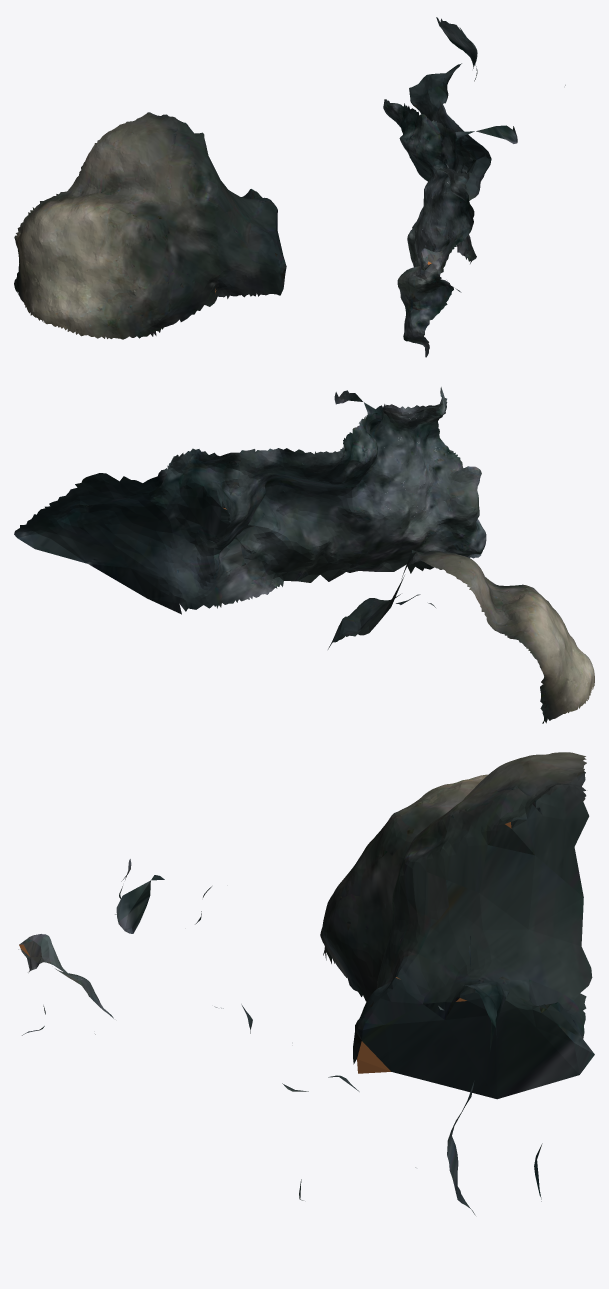
The model's file is tile_0063.gltf.
3 renders of one model, top to bottom at view 1: azimuth 30°, elevation 25°; view 2: azimuth 150°, elevation 25°; view 3: azimuth 270°, elevation 25°, orthographic. The views are drawn at different scales.
Parts seen in each view (by area): view 1: defaultobject; view 2: defaultobject; view 3: defaultobject.
Part boxes in pixels (box(x1,y1,x2,y2)): defaultobject: box(14, 17, 565, 357); defaultobject: box(14, 387, 594, 723); defaultobject: box(18, 752, 594, 1215).
Bounding box in the file's own units: 1.1 × 0.3234 × 0.5648.
Materials: 2 (2 with a texture image).
